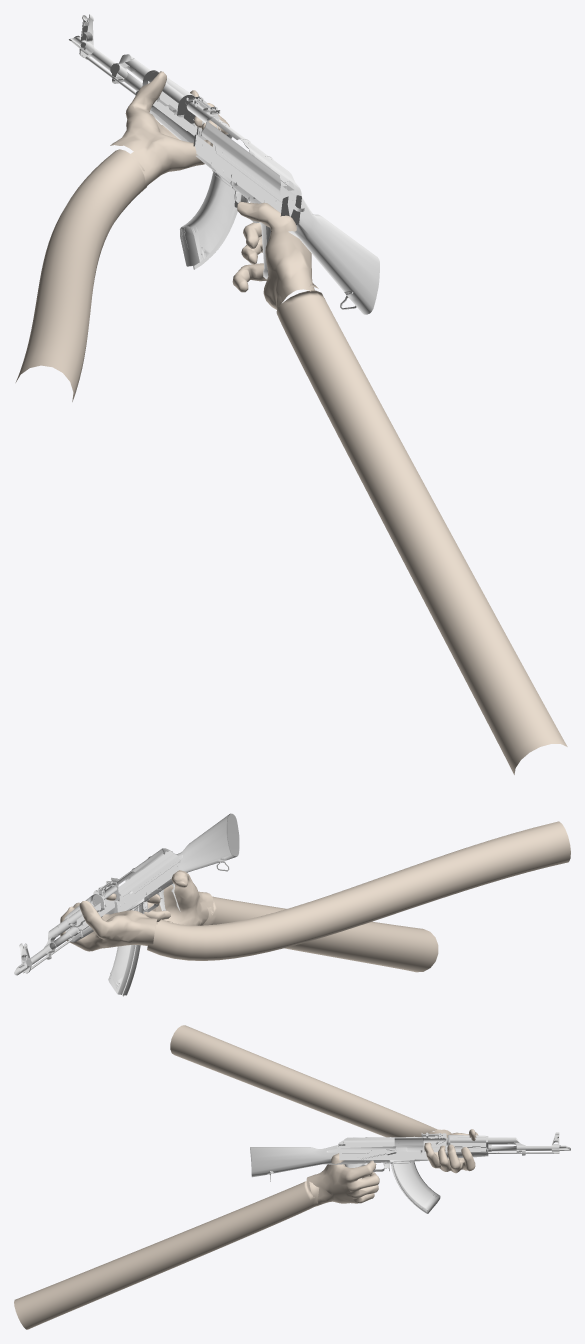
Rendered from ak47_posed.glb.
3 renders of one model, top to bottom at view 1: azimuth 30°, elevation 25°; view 2: azimuth 150°, elevation 25°; view 3: azimuth 270°, elevation 25°, orthographic. The views are drawn at different scales.
Visible parts, largest first — view 1: arms_hands, body, mag2; view 2: arms_hands, body, mag2, mag; view 3: arms_hands, body, mag, slide.
Part boxes in pixels (left/top/right/bottom): arms_hands: left=15, top=71, right=567, bottom=774; body: left=69, top=14, right=379, bottom=314; mag2: left=182, top=170, right=237, bottom=269; arms_hands: left=60, top=821, right=570, bottom=972; body: left=14, top=813, right=239, bottom=975; mag2: left=108, top=891, right=143, bottom=995; mag: left=118, top=894, right=143, bottom=996; arms_hands: left=14, top=1025, right=477, bottom=1329; body: left=250, top=1132, right=570, bottom=1181; mag: left=390, top=1150, right=440, bottom=1213; slide: left=394, top=1137, right=446, bottom=1154.
Size of the model in its own units: 0.8577 by 0.7128 by 1.7.
